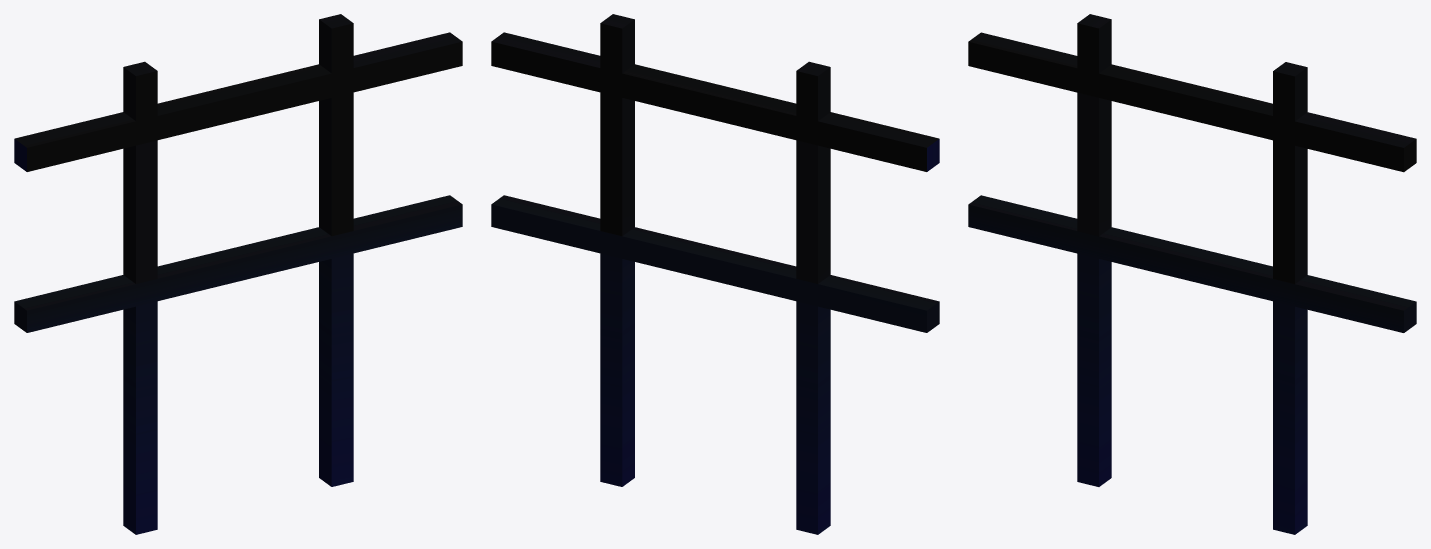
The model's file is Fence.fbx.
The picture shows the model from 3 angles, left to right: view 1: azimuth 30°, elevation 25°; view 2: azimuth 150°, elevation 25°; view 3: azimuth 330°, elevation 25°; orthographic projection.
Parts seen in each view (by area): view 1: Cube; view 2: Cube; view 3: Cube.
Boxes of the visible parts, x1,y1,x2,y2 form: Cube: (14, 14, 462, 534); Cube: (491, 14, 939, 534); Cube: (968, 14, 1416, 534).
Size of the model in its own units: 1988 by 2001 by 100.
